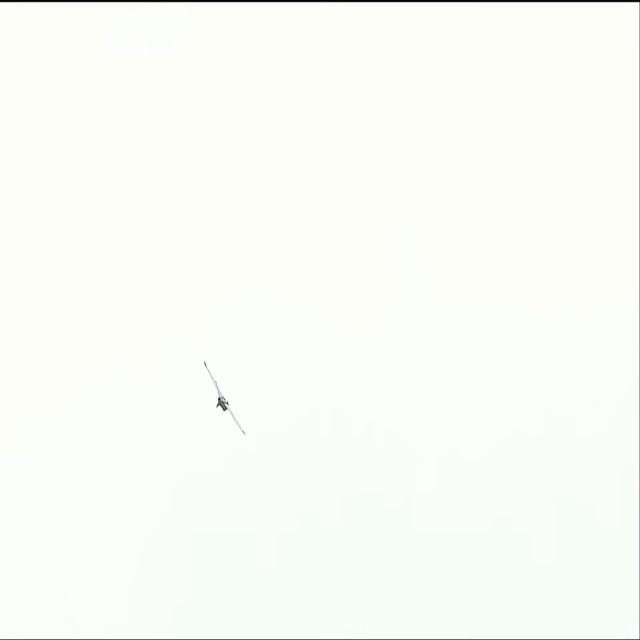iha: (203, 384, 245, 397)
